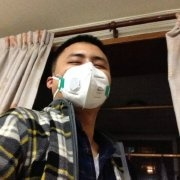Mask: (63, 51, 119, 107)
